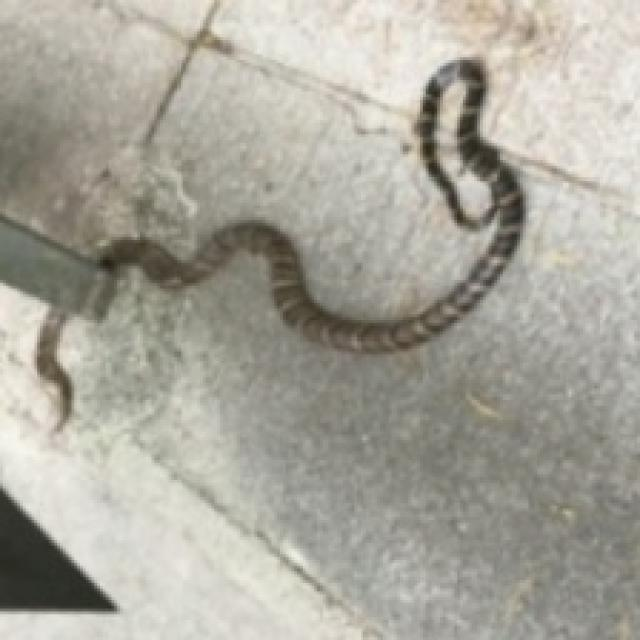king cobra: (0, 60, 523, 417), (100, 60, 523, 351)
